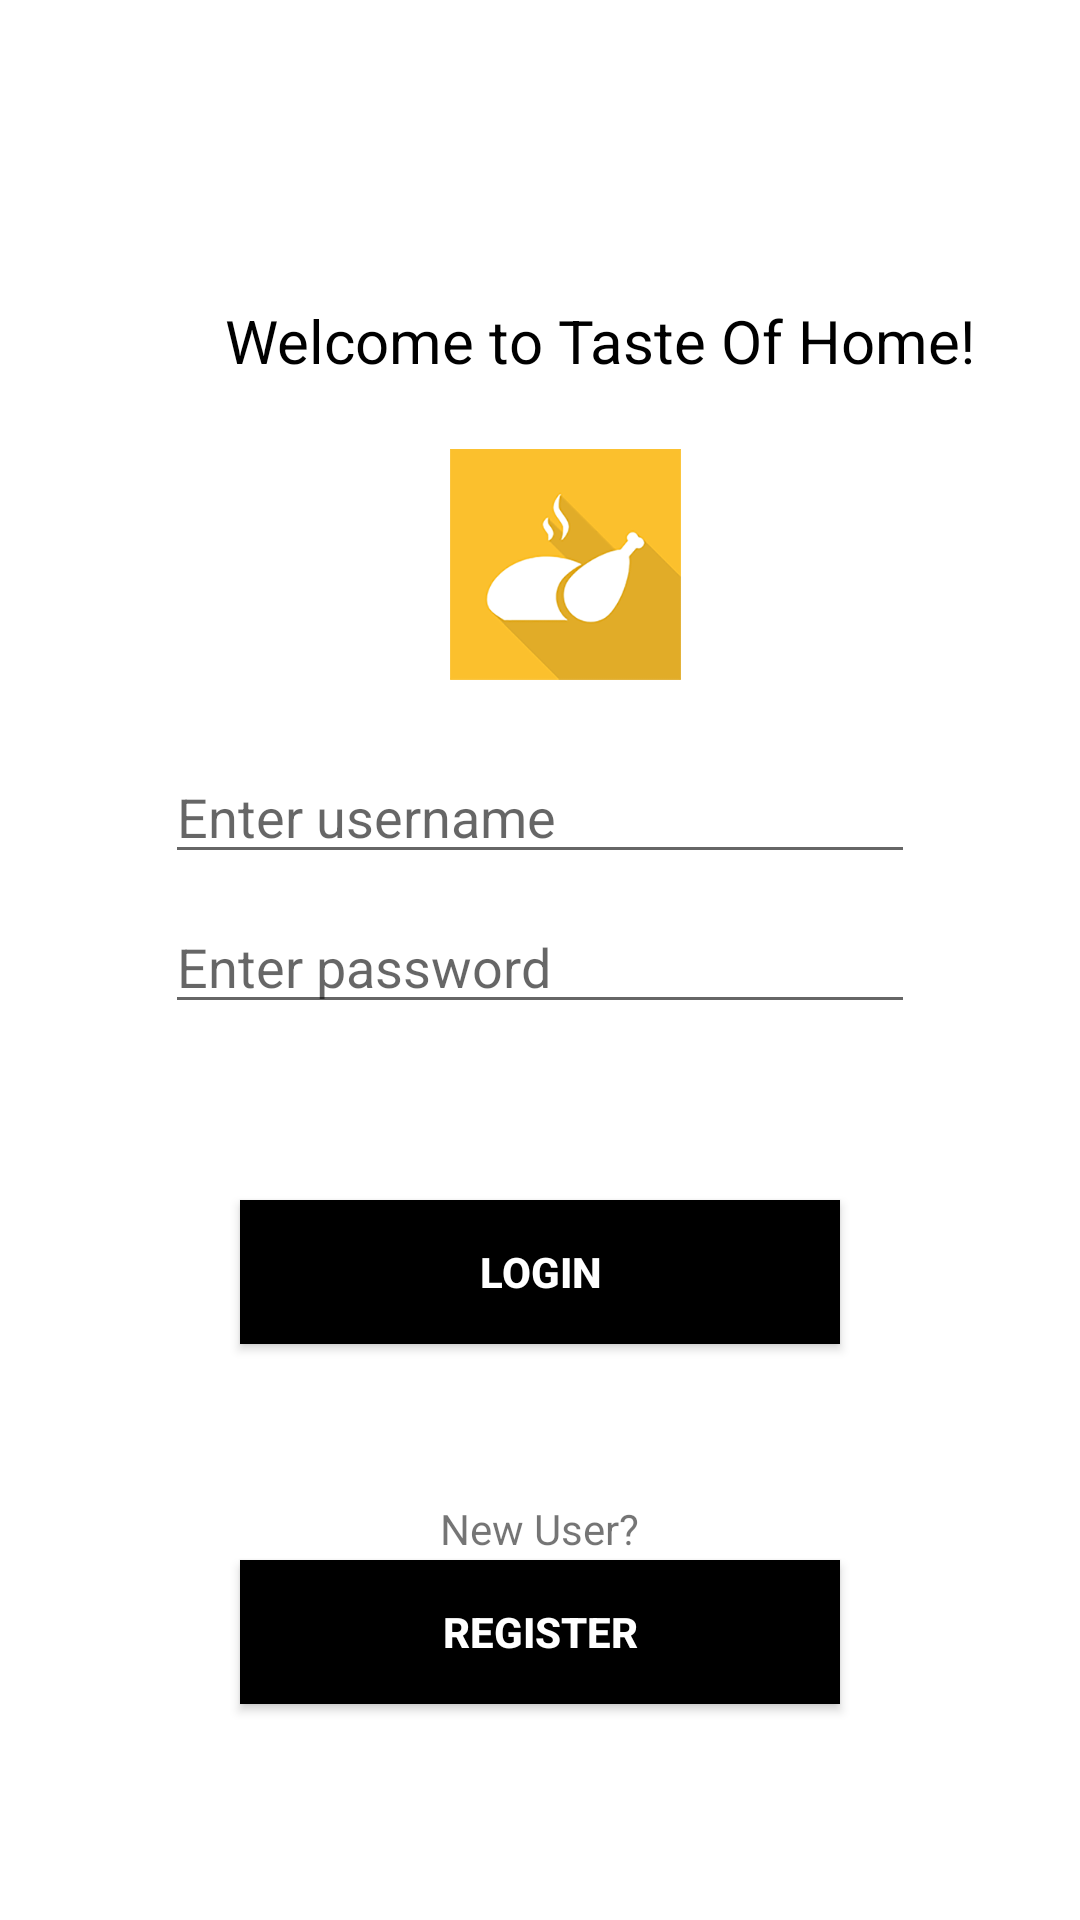

Icon bounding boxes for this 1080px×1920px phone screenshot, format [x1, y1, x2, y2]:
appicon: [450, 449, 681, 680]
